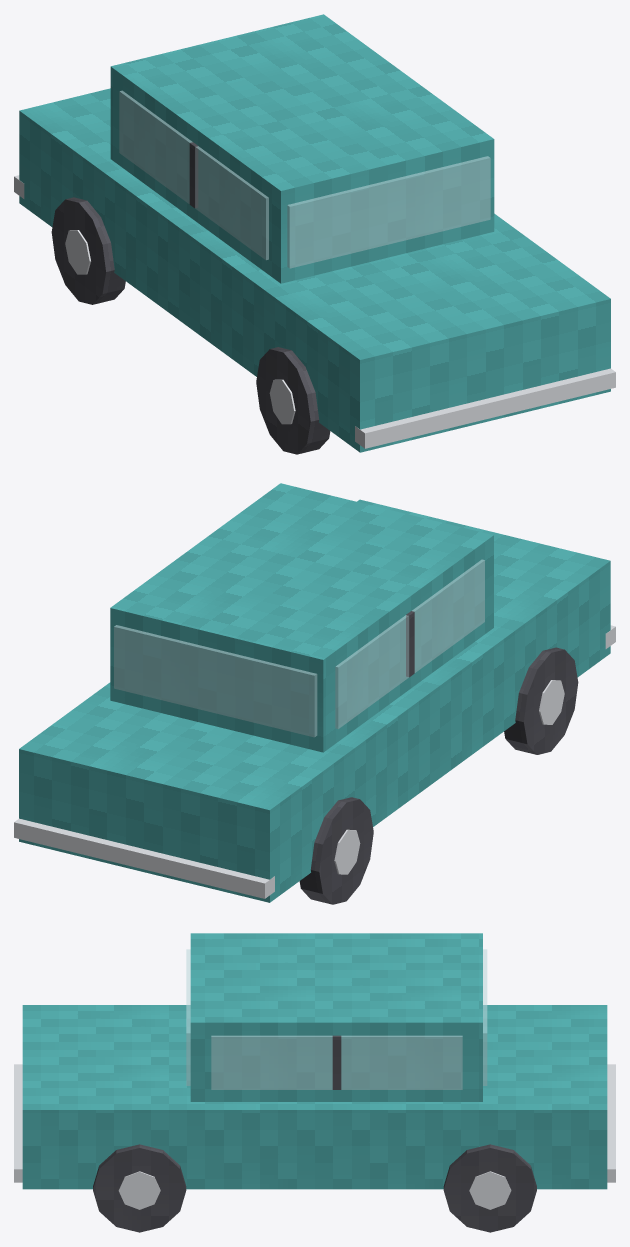
Rendered from retro-arcade-and-mall-1989-boxy-sedan-73c0b156__15547.glb.
3 renders of one model, top to bottom at view 1: azimuth 30°, elevation 25°; view 2: azimuth 150°, elevation 25°; view 3: azimuth 270°, elevation 25°, orthographic. The views are drawn at different scales.
Visible parts, largest first — view 1: boxy-sedan; view 2: boxy-sedan; view 3: boxy-sedan.
Boxes of the visible parts, <box> form: boxy-sedan: <box>14,14,615,454</box>; boxy-sedan: <box>14,483,615,904</box>; boxy-sedan: <box>14,933,615,1232</box>.
Bounding box in the file's own units: 1.84 × 1.5 × 4.12.
Materials: 4 (2 with a texture image).
